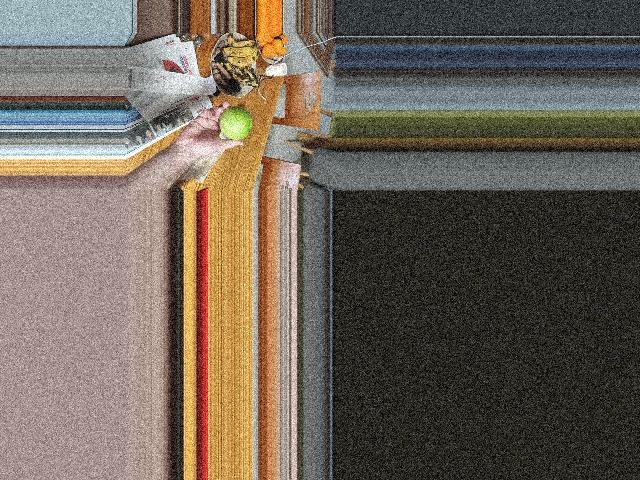apple: (217, 105, 251, 139)
